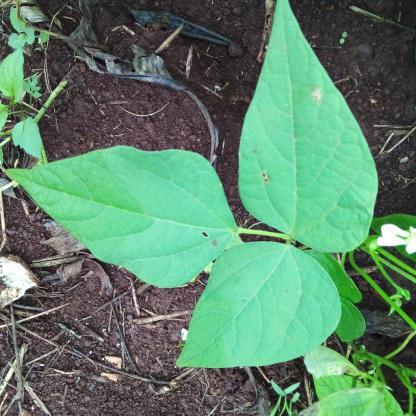Beans_Angular_LeafSpot: (1, 148, 250, 285), (236, 4, 371, 250)
